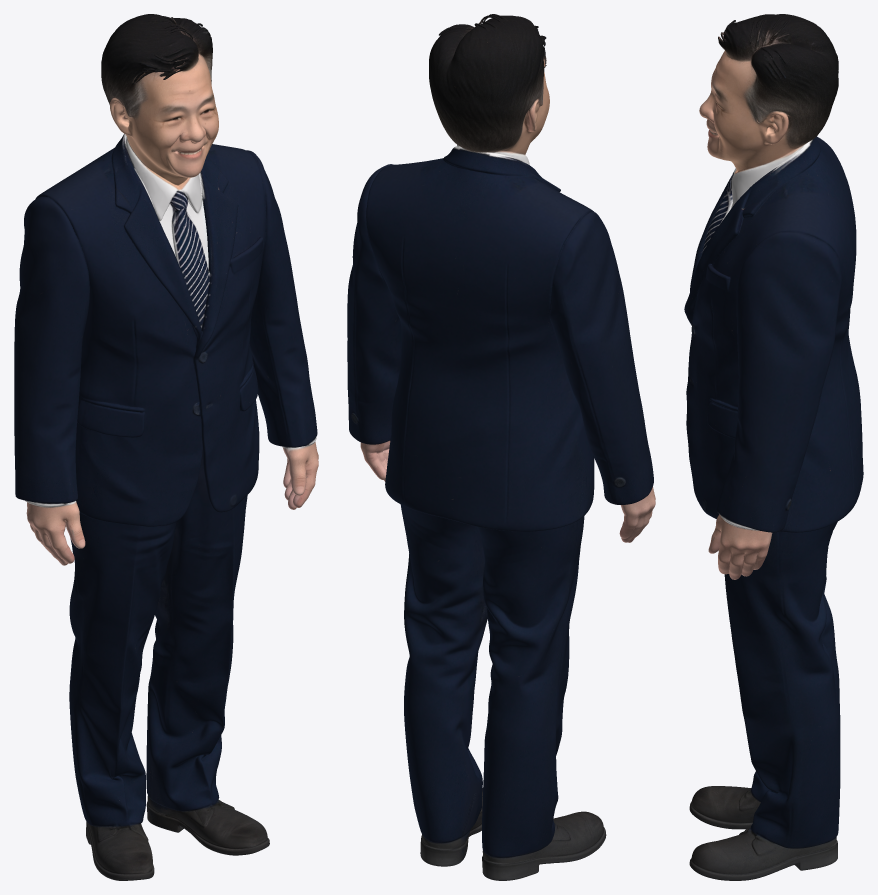
File: 陳星助副院長.glb
3 views of the same model, side by side, from view 1: azimuth 30°, elevation 25°; view 2: azimuth 150°, elevation 25°; view 3: azimuth 270°, elevation 25° (orthographic).
Bounding box in the file's own units: 0.7119 × 1.9 × 0.3732.
1 material, 1 textured.
